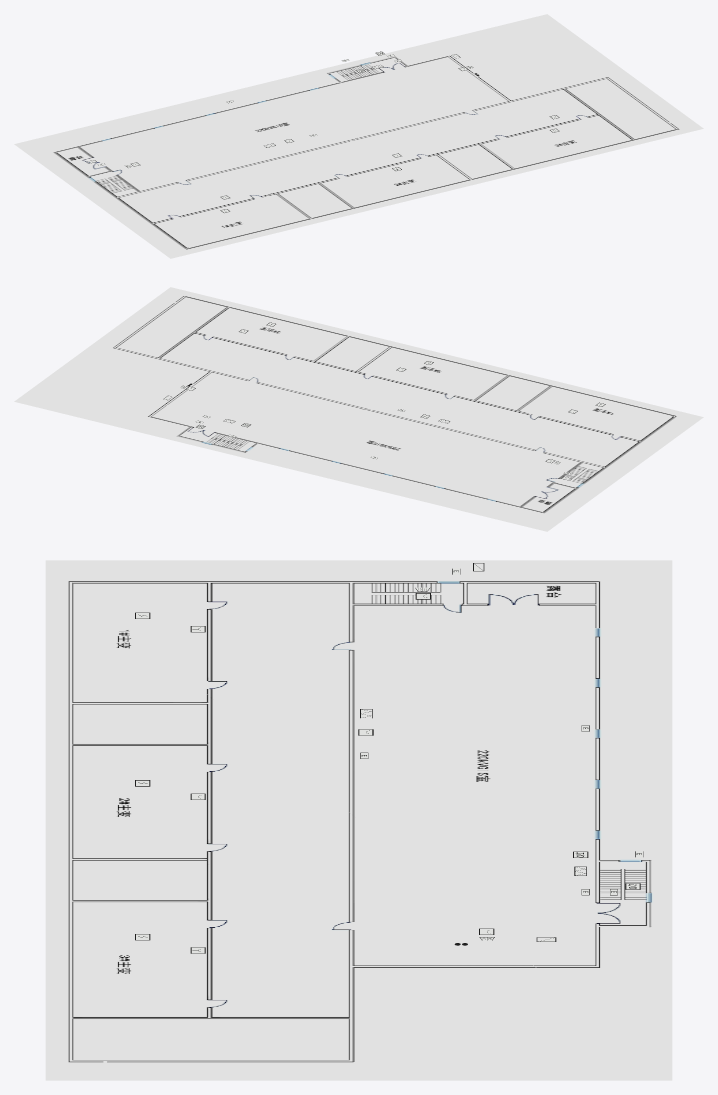
3 renders of one model, top to bottom at view 1: azimuth 30°, elevation 25°; view 2: azimuth 150°, elevation 25°; view 3: azimuth 270°, elevation 25°, orthographic. The views are drawn at different scales.
Parts seen in each view (by area): view 1: NC_RM_Floor_主控楼三层; view 2: NC_RM_Floor_主控楼三层; view 3: NC_RM_Floor_主控楼三层.
Part boxes in pixels (box(x1,y1,x2,y2)): NC_RM_Floor_主控楼三层: box(14, 14, 703, 258); NC_RM_Floor_主控楼三层: box(14, 287, 703, 531); NC_RM_Floor_主控楼三层: box(45, 560, 672, 1080).
Size of the model in its own units: 48529 by 942 by 24687.
Materials: 3 (3 with a texture image).
